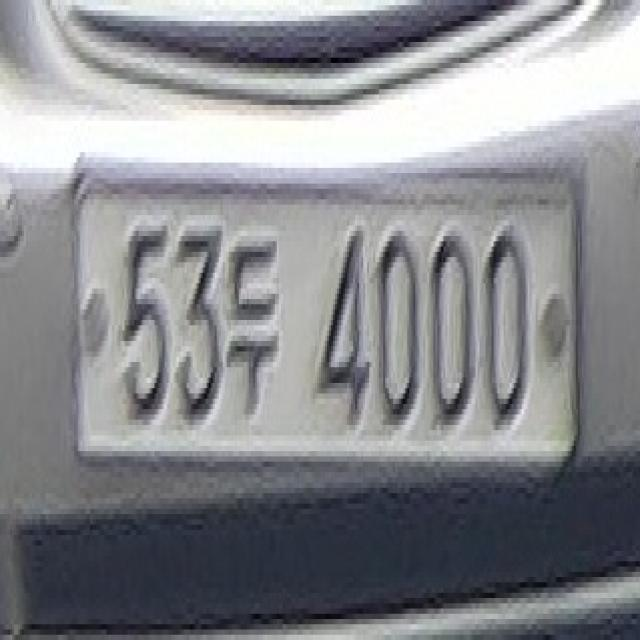0: (426, 220, 482, 451), (369, 220, 423, 457), (488, 226, 540, 430)
3: (172, 210, 222, 430)
4: (311, 220, 377, 446)
5: (112, 204, 178, 440)
du: (217, 215, 285, 420)
license_plate: (62, 163, 586, 493)
